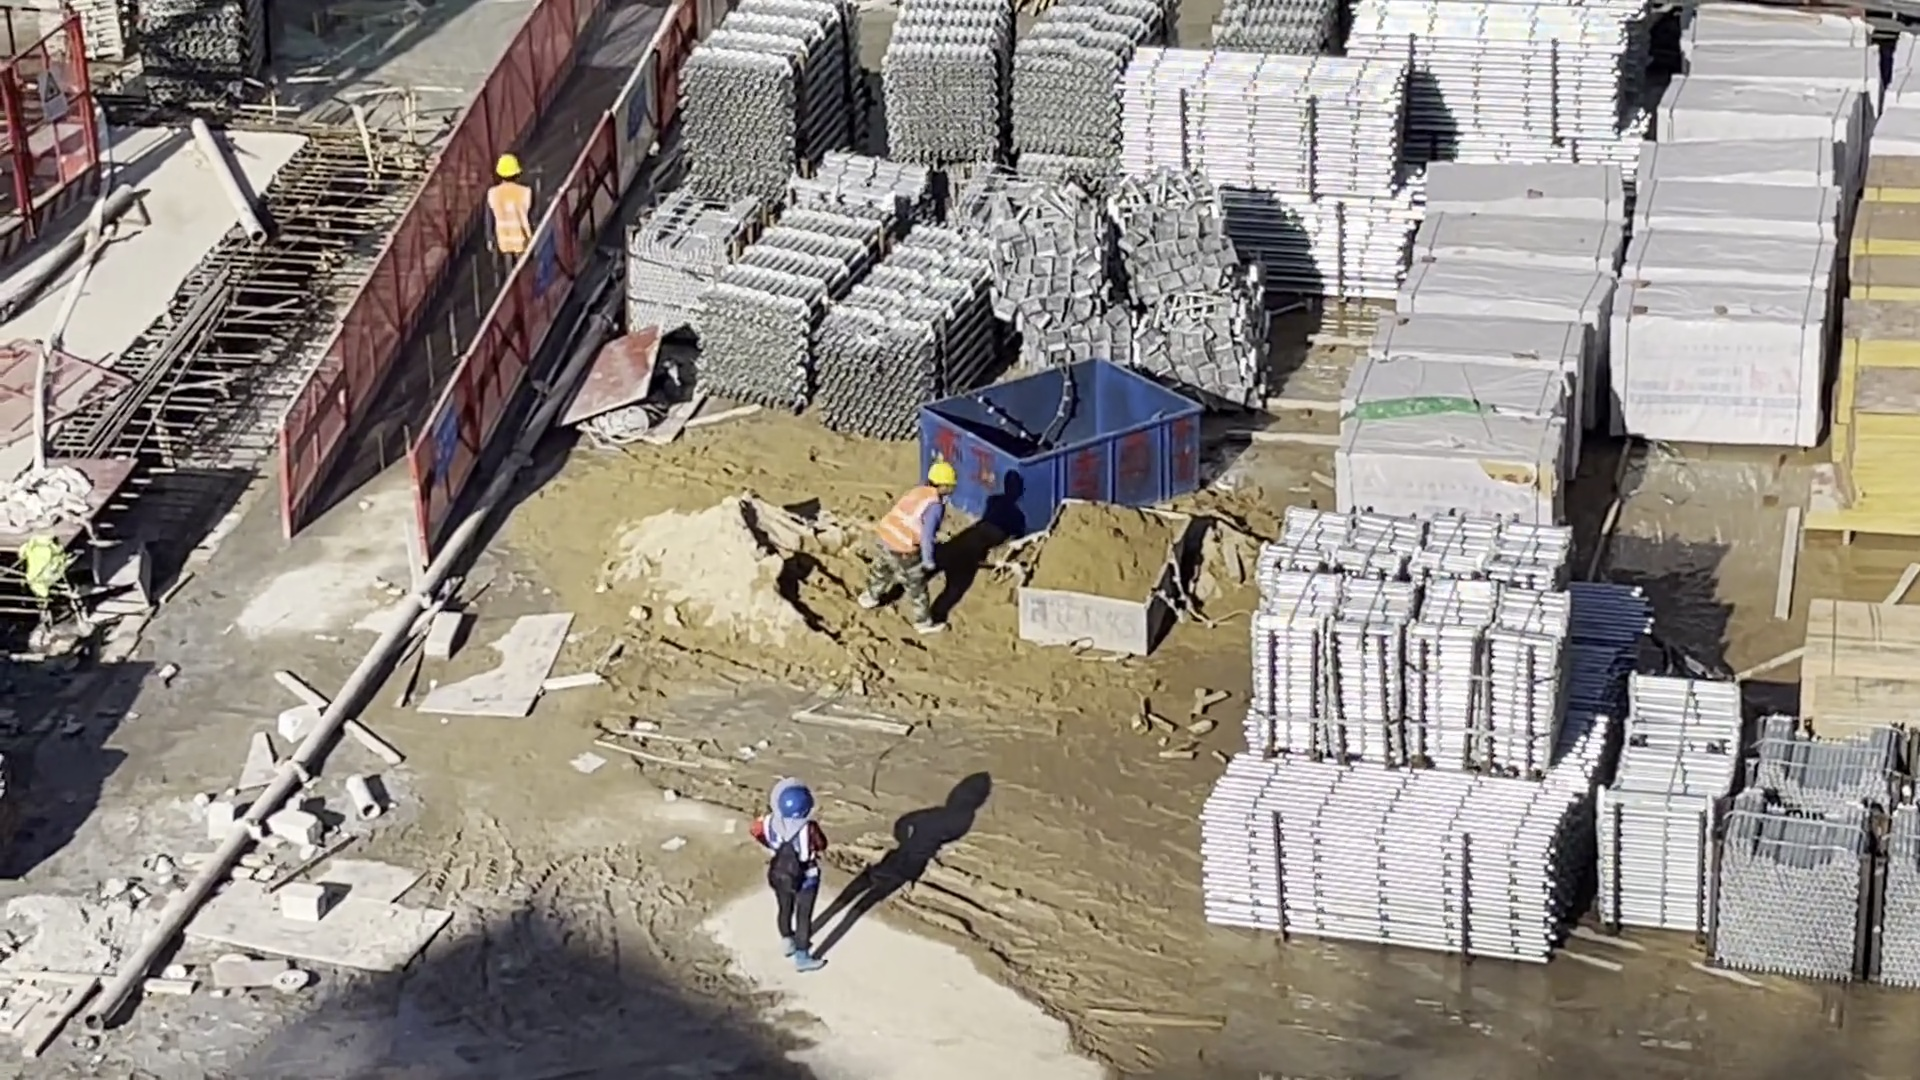board: (1843, 160, 1920, 537), (1802, 593, 1920, 736)
fence: (288, 10, 681, 527)
helmet: (780, 790, 814, 821), (928, 458, 956, 489), (497, 157, 518, 177)
hopper: (921, 358, 1201, 519), (1017, 499, 1186, 657)
person: (874, 465, 958, 634), (761, 787, 831, 969), (488, 156, 532, 277)
scaffold: (1258, 514, 1565, 776), (1204, 753, 1586, 962), (1123, 46, 1408, 280), (708, 206, 988, 433), (1717, 730, 1920, 976), (885, 1, 1171, 164), (1350, 4, 1638, 146), (678, 4, 858, 197), (1605, 674, 1743, 923), (128, 1, 273, 87), (1234, 1, 1354, 51), (37, 1, 132, 61)
slogan: (432, 395, 458, 476), (531, 229, 551, 289)
vest: (877, 493, 936, 545), (483, 190, 530, 248)
